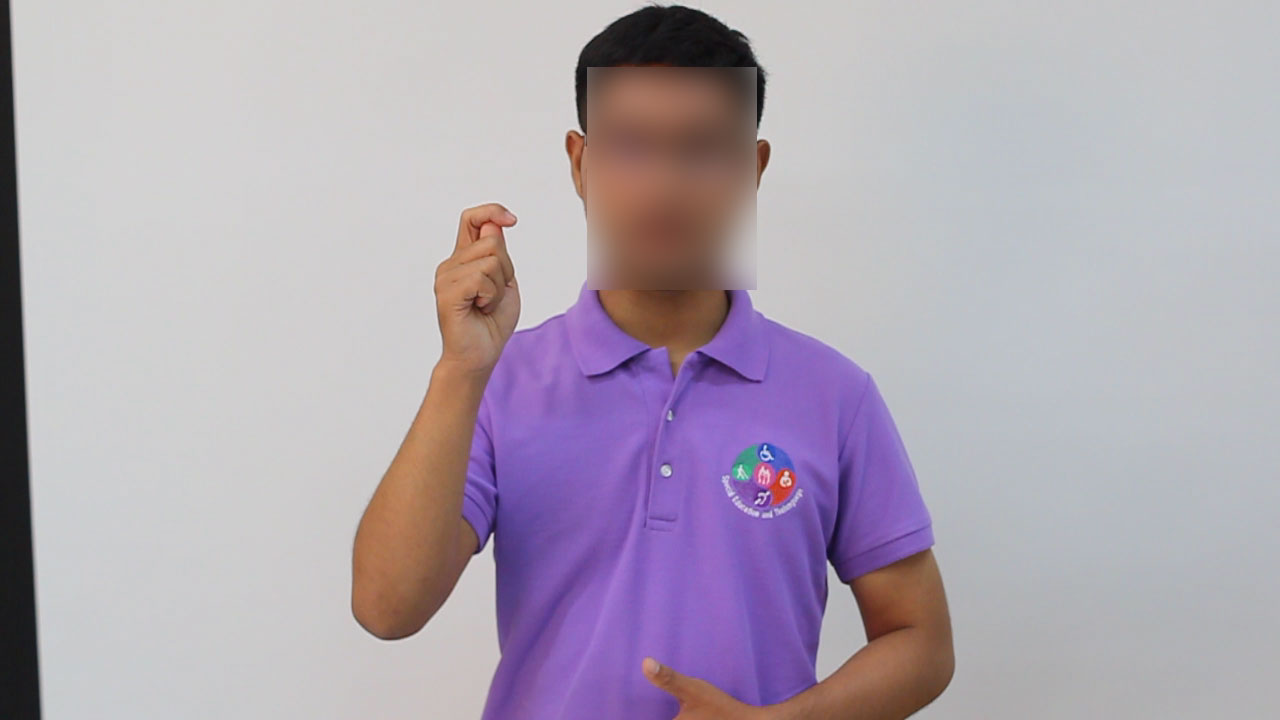or: (428, 193, 525, 389)
